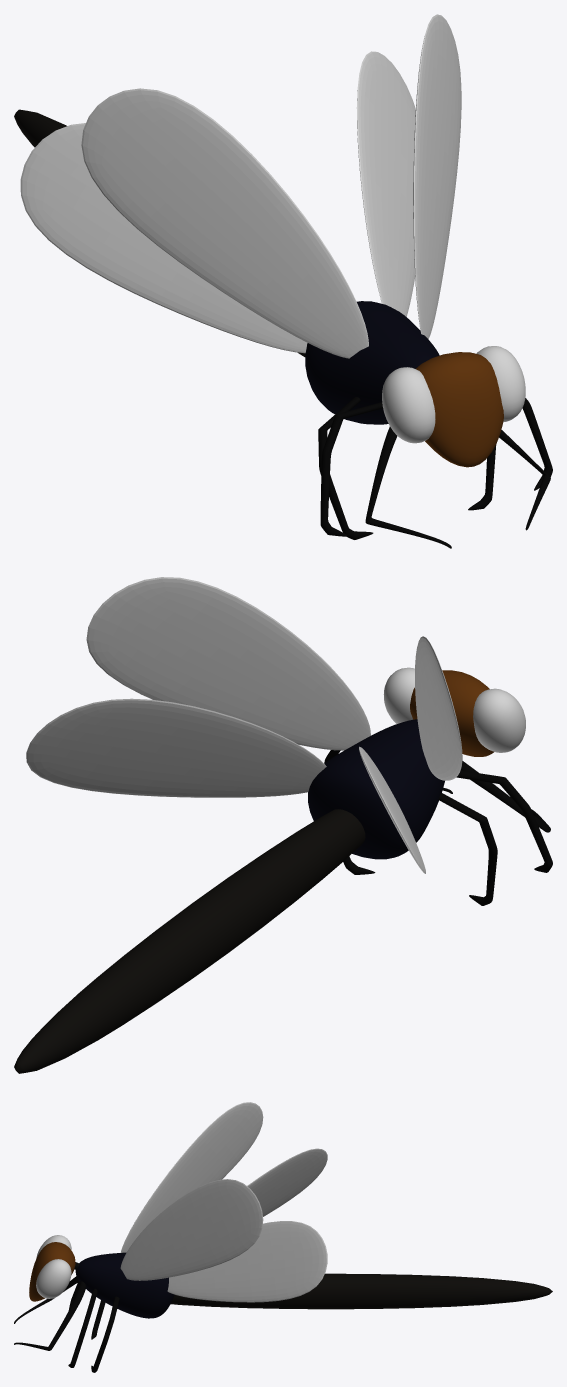
The model's file is dragonflyModel.obj.
The picture shows the model from 3 angles, top to bottom: view 1: azimuth 30°, elevation 25°; view 2: azimuth 150°, elevation 25°; view 3: azimuth 270°, elevation 25°; orthographic projection. The views are drawn at different scales.
Parts seen in each view (by area): view 1: wings_Cube.004, thorax_Cube, head_Cube.002, eyes_Cube.005, back_legs_Cube.007, front_legs_Cube.006, tail_Cube.001; view 2: wings_Cube.004, tail_Cube.001, thorax_Cube, eyes_Cube.005, back_legs_Cube.007, head_Cube.002, front_legs_Cube.006; view 3: wings_Cube.004, tail_Cube.001, thorax_Cube, eyes_Cube.005, back_legs_Cube.007, head_Cube.002, front_legs_Cube.006.
Part boxes in pixels (x1,y1,x2,y2): wings_Cube.004: (20,14,461,358); thorax_Cube: (305,301,439,424); head_Cube.002: (416,352,503,467); eyes_Cube.005: (382,346,525,443); back_legs_Cube.007: (318,397,552,539); front_legs_Cube.006: (365,426,550,548); tail_Cube.001: (14,109,305,356); wings_Cube.004: (26,577,462,873); tail_Cube.001: (14,809,365,1073); thorax_Cube: (308,719,444,859); eyes_Cube.005: (383,667,525,752); back_legs_Cube.007: (324,750,552,905); head_Cube.002: (410,670,493,756); front_legs_Cube.006: (442,761,550,832); wings_Cube.004: (120,1102,327,1302); tail_Cube.001: (171,1273,552,1309); thorax_Cube: (75,1252,174,1318); eyes_Cube.005: (36,1235,71,1298); back_legs_Cube.007: (68,1282,119,1372); head_Cube.002: (29,1242,75,1301); front_legs_Cube.006: (14,1276,86,1350).
Bounding box in the file's own units: 6.52 × 5.96 × 13.73.
